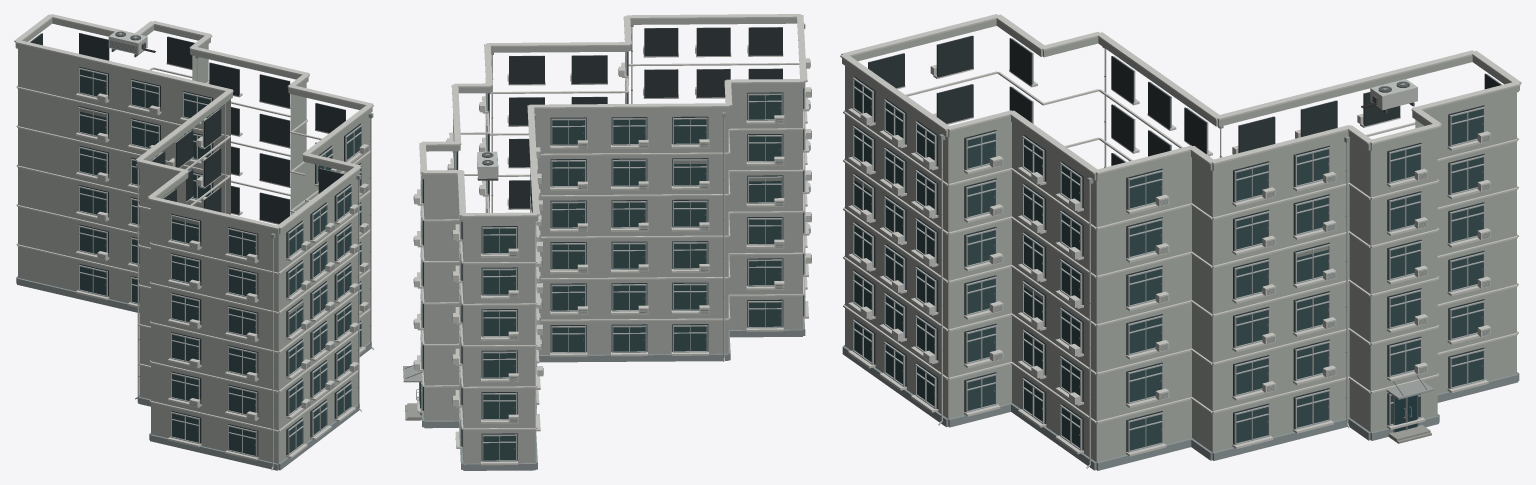
Rendered from osm_way_225242511.glb.
3 views of the same model, side by side, from view 1: azimuth 30°, elevation 25°; view 2: azimuth 150°, elevation 25°; view 3: azimuth 270°, elevation 25° (orthographic). The views are drawn at different scales.
Parts seen in each view (by area): view 1: Architecture | 30, Windows and facade details | 30, Roof services | 30, EXTERIOR::osm_way_225242511::rainwater and roof service deta; view 2: Architecture | 30, Windows and facade details | 30, Roof services | 30, EXTERIOR::osm_way_225242511::rainwater and roof service deta, EXTERIOR::osm_way_225242511::inferred entry doors canopy and; view 3: Architecture | 30, Windows and facade details | 30, Roof services | 30, EXTERIOR::osm_way_225242511::rainwater and roof service deta, EXTERIOR::osm_way_225242511::inferred entry doors canopy and.
Part boxes in pixels (box(x1,y1,x2,y2)): Architecture | 30: box(15, 18, 372, 470); Windows and facade details | 30: box(29, 33, 368, 460); Roof services | 30: box(14, 14, 373, 229); EXTERIOR::osm_way_225242511::rainwater and roof service deta: box(108, 29, 374, 470); Architecture | 30: box(421, 18, 805, 470); Windows and facade details | 30: box(413, 27, 811, 465); Roof services | 30: box(419, 14, 806, 217); EXTERIOR::osm_way_225242511::rainwater and roof service deta: box(452, 23, 805, 361); EXTERIOR::osm_way_225242511::inferred entry doors canopy and: box(403, 365, 422, 420); Architecture | 30: box(842, 19, 1519, 470); Windows and facade details | 30: box(848, 35, 1502, 456); Roof services | 30: box(840, 14, 1521, 174); EXTERIOR::osm_way_225242511::rainwater and roof service deta: box(938, 46, 1417, 468); EXTERIOR::osm_way_225242511::inferred entry doors canopy and: box(1386, 375, 1433, 443).
Bounding box in the file's own units: 22.56 × 20.56 × 40.77.
